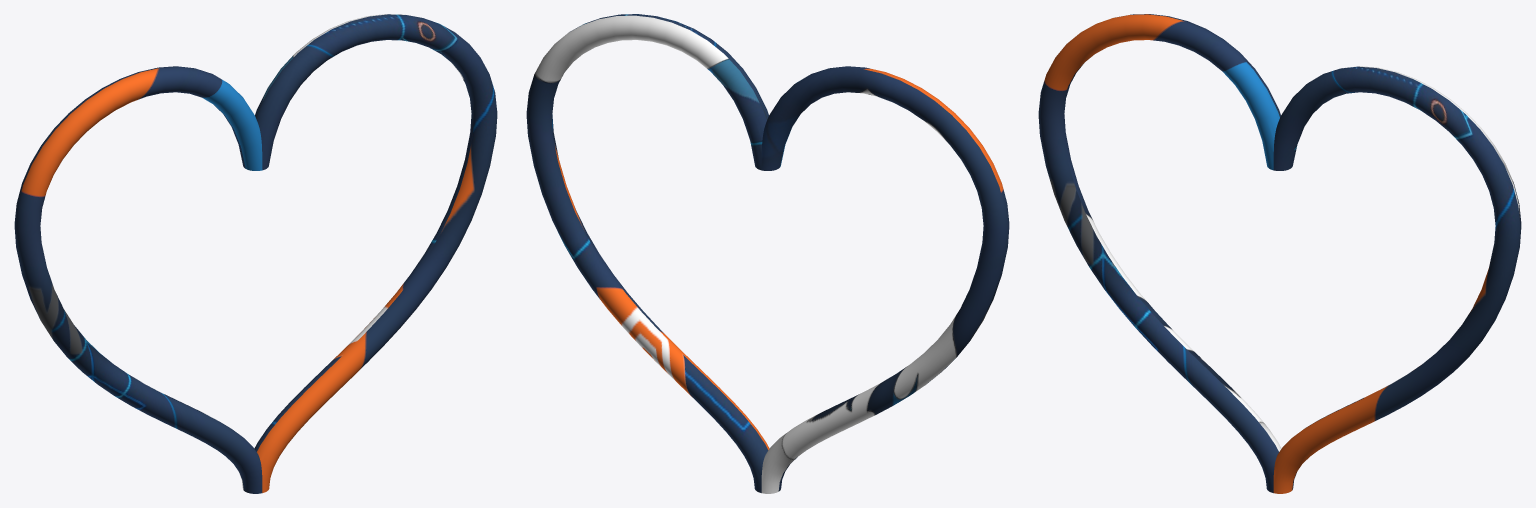
Rendered from HeartCombined.fbx.
The picture shows the model from 3 angles, left to right: view 1: azimuth 30°, elevation 25°; view 2: azimuth 150°, elevation 25°; view 3: azimuth 330°, elevation 25°; orthographic projection.
Parts seen in each view (by area): view 1: heart; view 2: heart; view 3: heart.
Part boxes in pixels (x1,y1,x2,y2): heart: (14, 14, 497, 493); heart: (526, 14, 1009, 493); heart: (1038, 14, 1521, 493).
Size of the model in its own units: 70.04 by 61.92 by 3.29.
